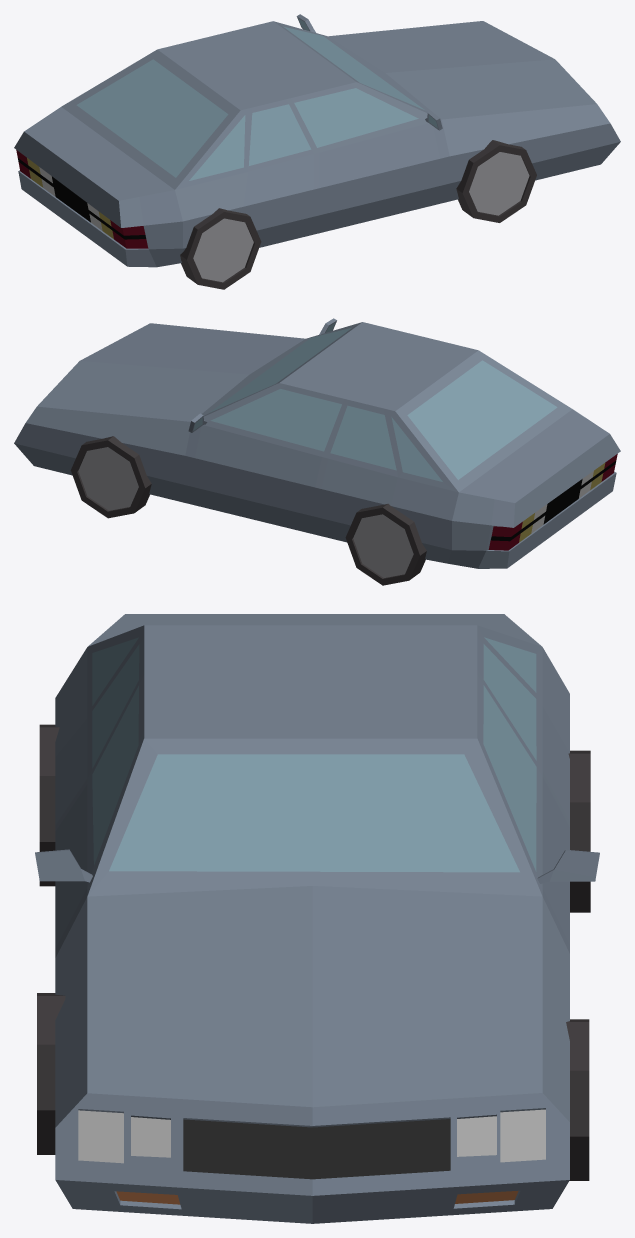
The model's file is car 80s AMC variant.fbx.
3 views of the same model, one above another, from view 1: azimuth 30°, elevation 25°; view 2: azimuth 150°, elevation 25°; view 3: azimuth 270°, elevation 25° (orthographic). The views are drawn at different scales.
Parts seen in each view (by area): view 1: Cube; view 2: Cube; view 3: Cube.
Boxes of the visible parts, box(x1,y1,x2,y2) form: Cube: box(14, 14, 620, 289); Cube: box(14, 318, 620, 585); Cube: box(35, 614, 599, 1223).
Bounding box in the file's own units: 454 × 129 × 220.
